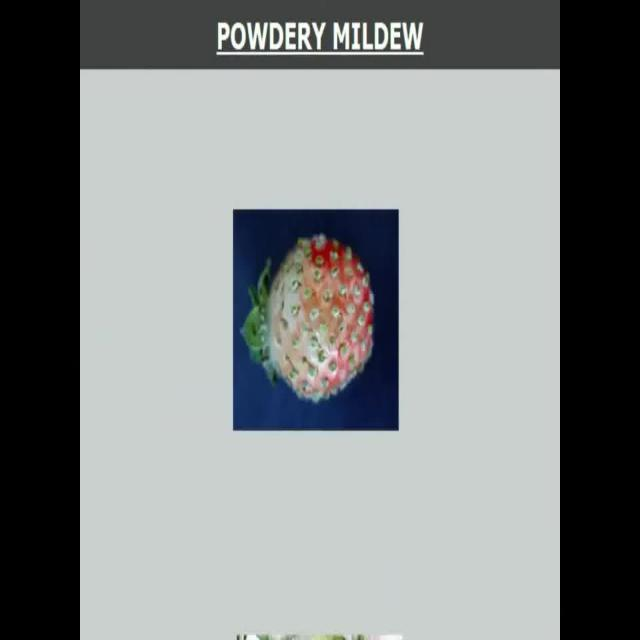Oído: (250, 229, 379, 403)
